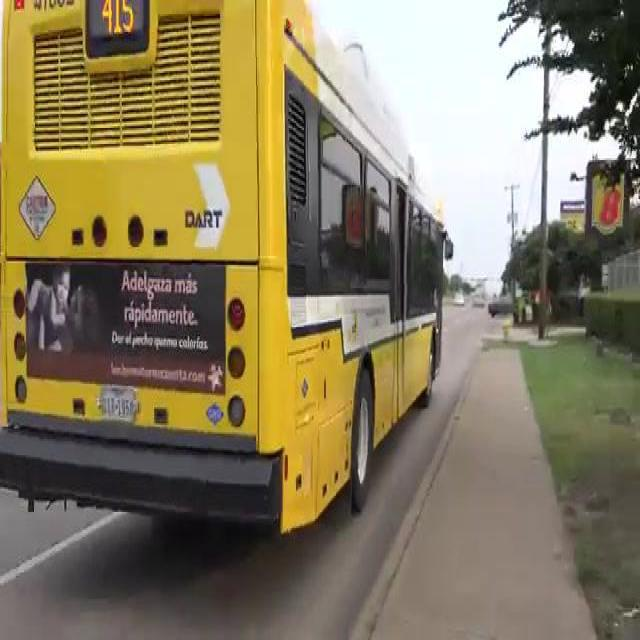motorcycle: (0, 2, 492, 549)
